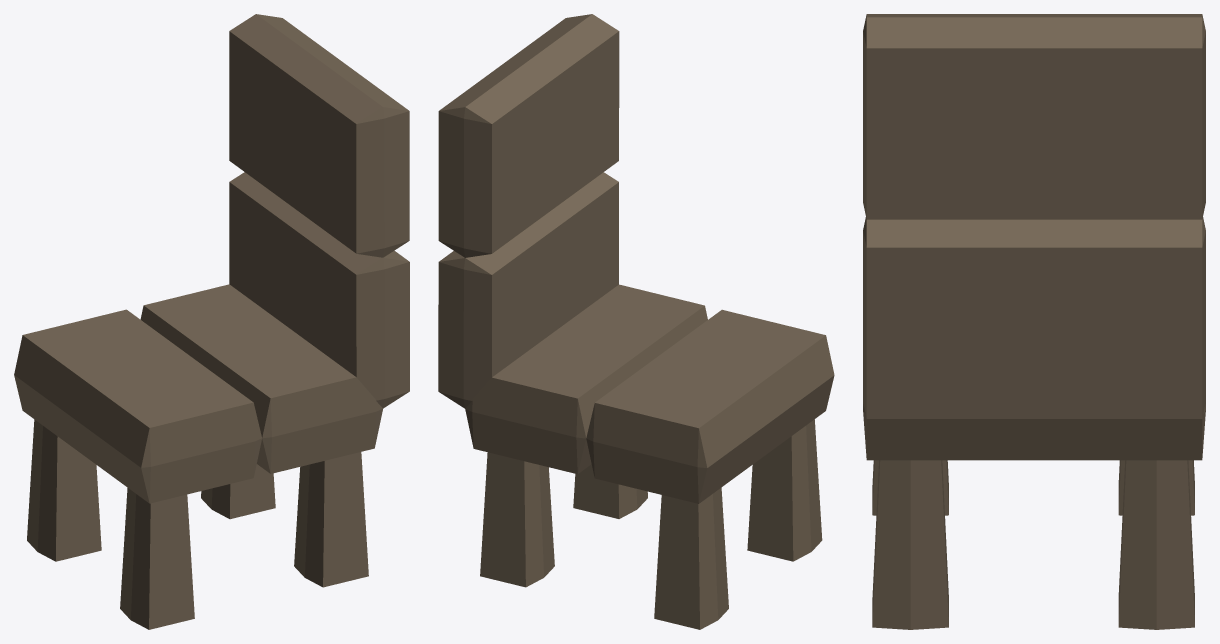
File: Stoel.fbx
3 views of the same model, side by side, from view 1: azimuth 30°, elevation 25°; view 2: azimuth 150°, elevation 25°; view 3: azimuth 270°, elevation 25° (orthographic). The views are drawn at different scales.
Visible parts, largest first — view 1: polySurface3258; view 2: polySurface3258; view 3: polySurface3258.
Boxes of the visible parts, box(x1,y1,x2,y2) form: polySurface3258: box(14, 14, 409, 629); polySurface3258: box(438, 14, 834, 629); polySurface3258: box(863, 14, 1205, 629).
Bounding box in the file's own units: 0.3232 × 0.5395 × 0.2705.
